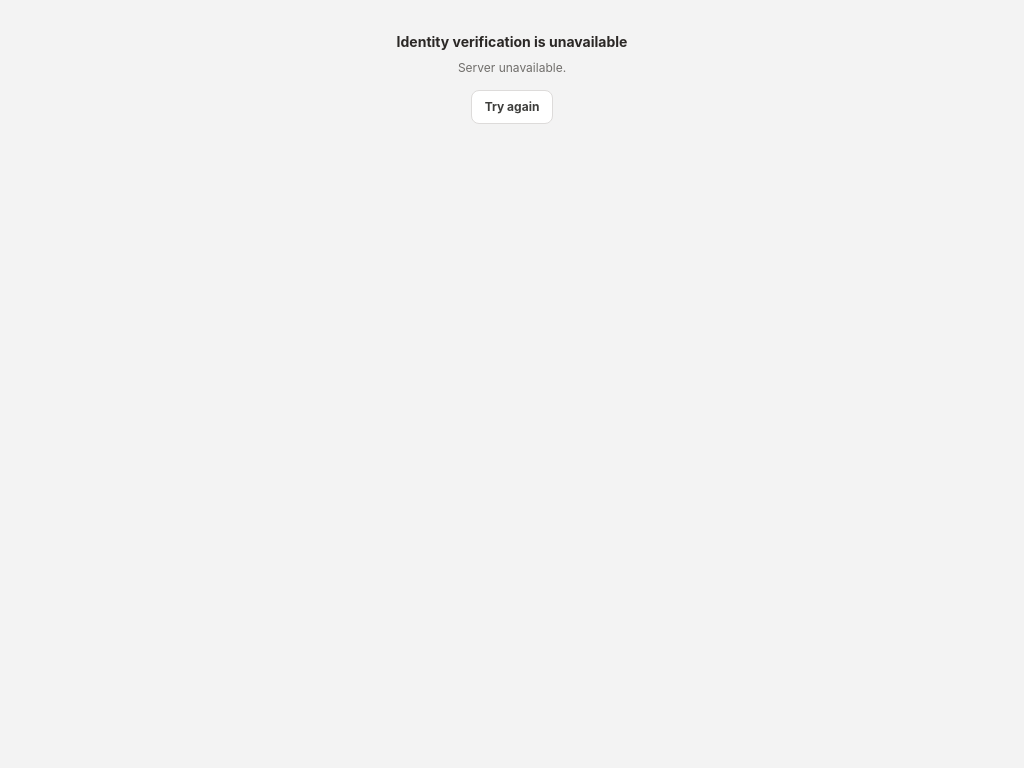
Test: identity verification view › shows an error state with retry
The width and height of the screenshot is (1024, 768).
Expected: the text "Server unavailable." is shown, [458, 60, 566, 75]
Step 1. Click the button "Try again" → (512, 107), box [471, 90, 553, 124]
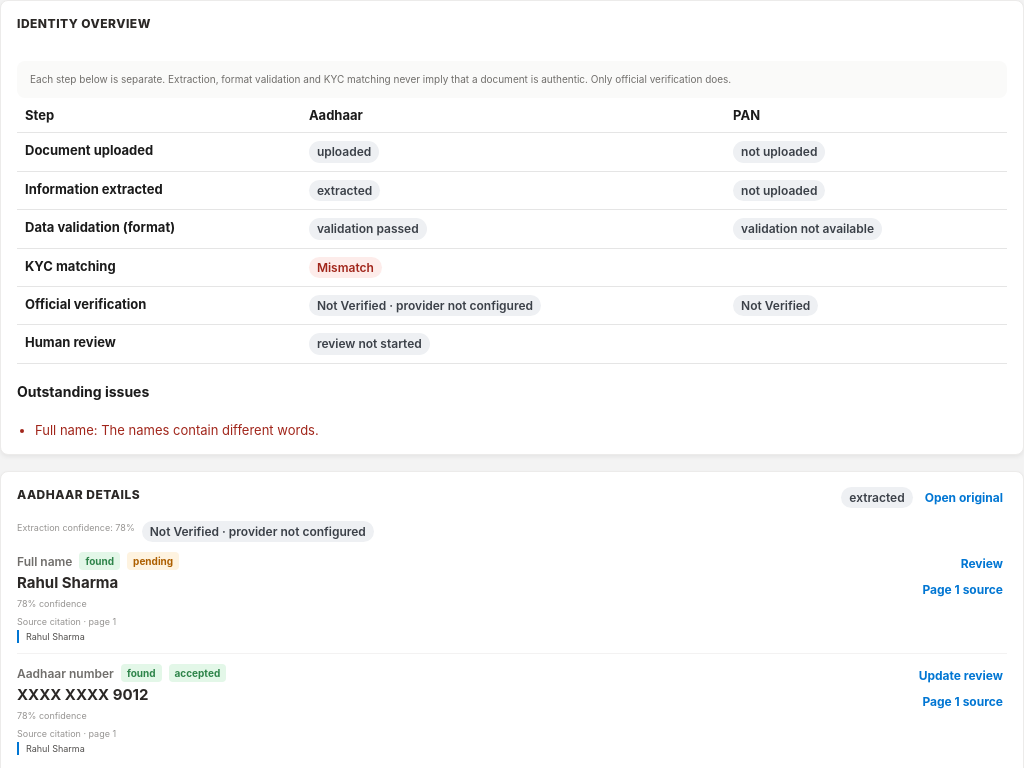
Result: the text "XXXX XXXX 9012" is shown at [17, 685, 148, 704]
